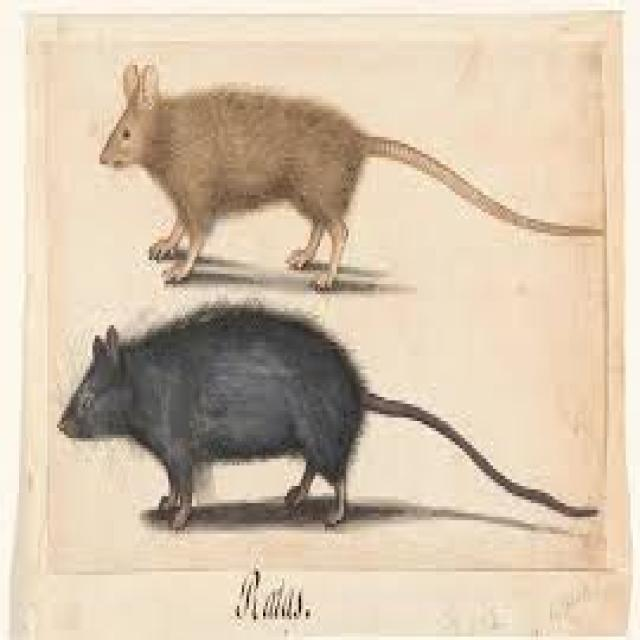rat: (55, 298, 598, 530), (97, 58, 605, 291)
